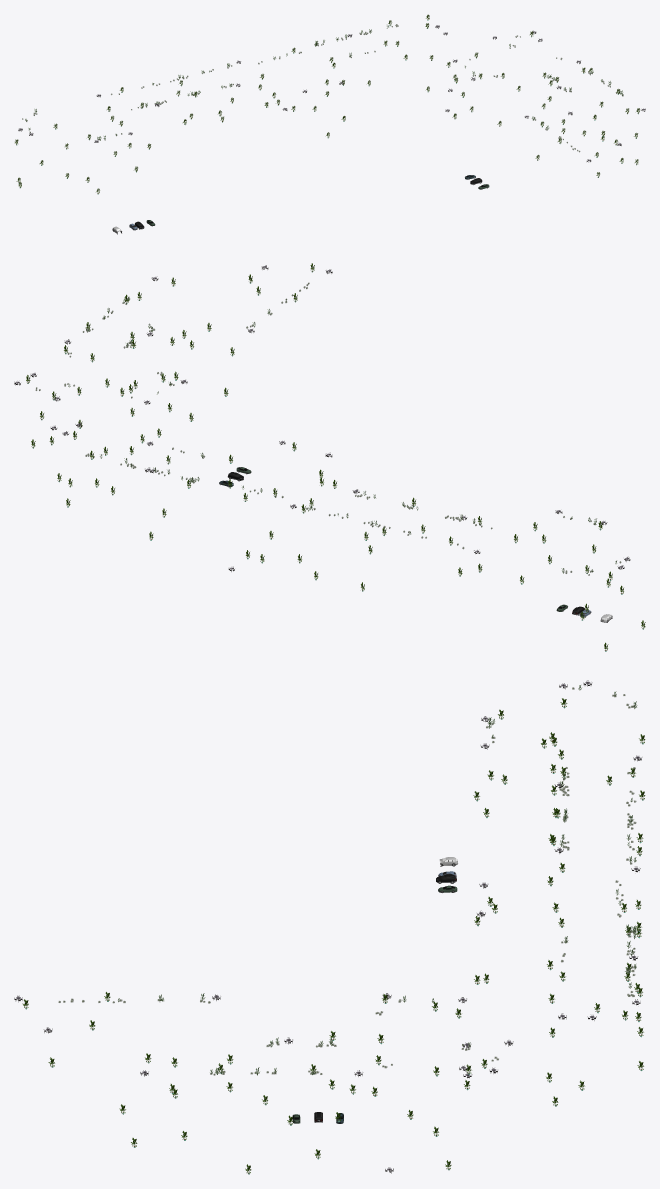
The model's file is MAG_11_plant_build_C.glb.
3 renders of one model, top to bottom at view 1: azimuth 30°, elevation 25°; view 2: azimuth 150°, elevation 25°; view 3: azimuth 270°, elevation 25°, orthographic. The views are drawn at different scales.
Parts seen in each view (by area): view 1: C_plant; view 2: C_plant; view 3: C_plant.
Boxes of the visible parts, x1,y1,x2,y2 form: C_plant: (15,14,645,234); C_plant: (14,263,645,651); C_plant: (14,680,645,1174).
Size of the model in its own units: 226 by 38.44 by 149.
Materials: 11 (11 with a texture image).
